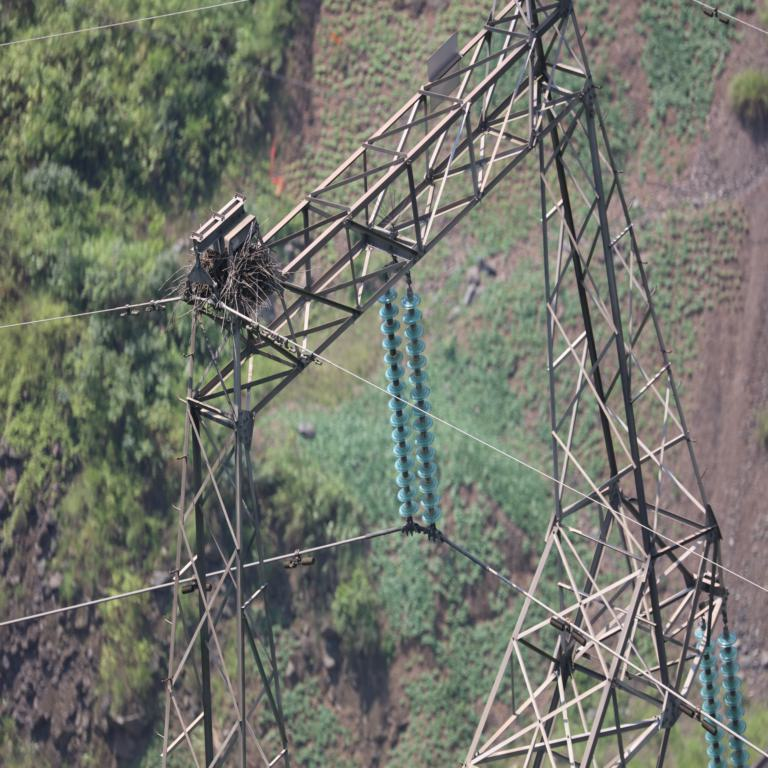nest: (190, 244, 274, 317)
